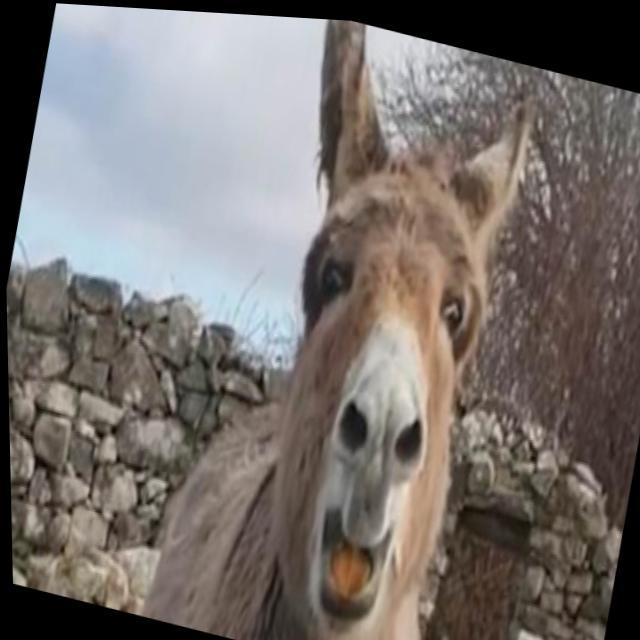Donkey: (136, 6, 550, 640)
